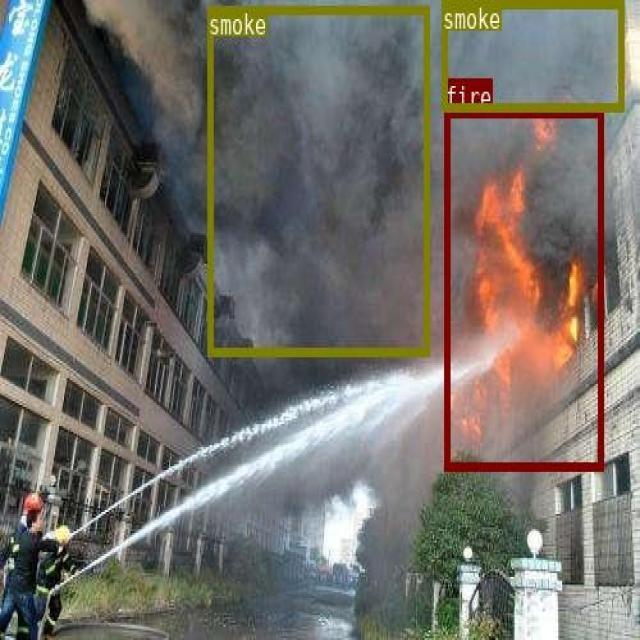fire: (444, 107, 603, 468)
smoke: (207, 4, 428, 355), (442, 0, 624, 109)
